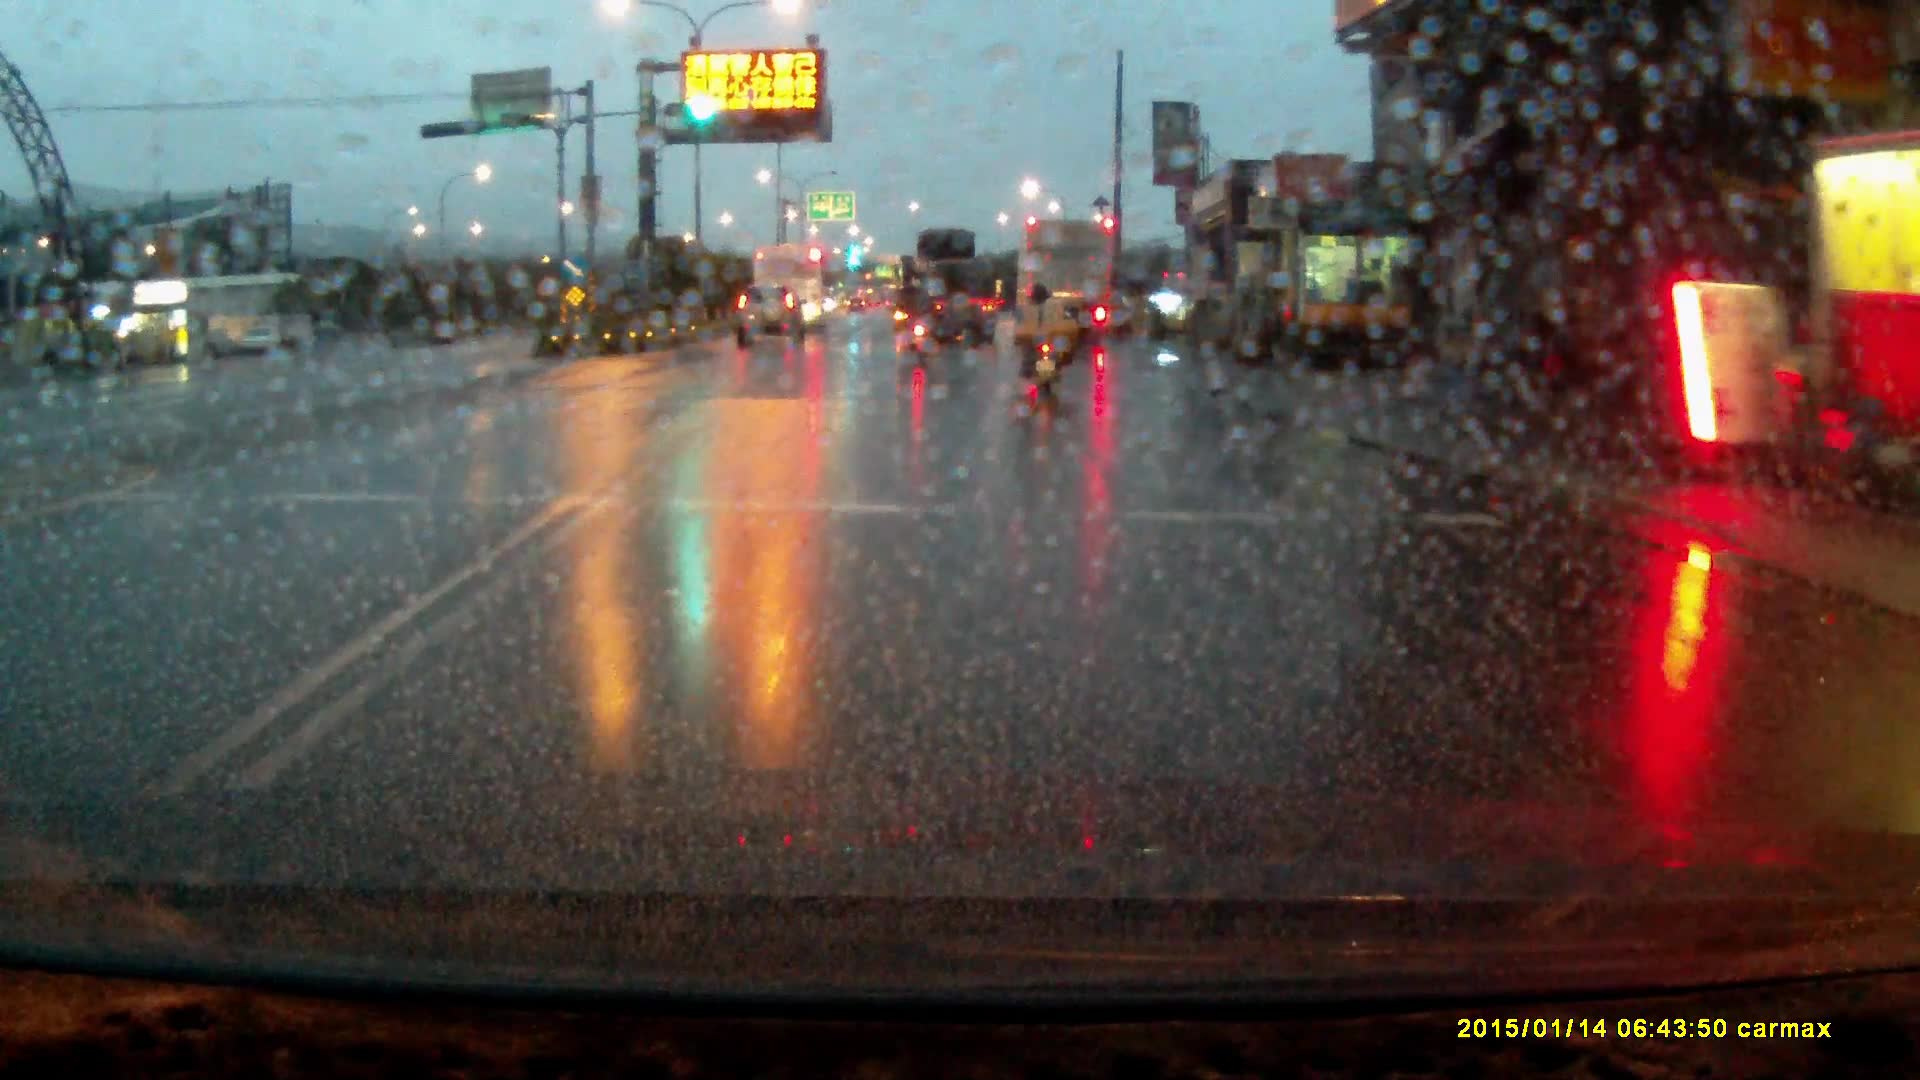rider: (1018, 287, 1075, 409), (901, 280, 939, 368)
vehicle: (1016, 219, 1117, 349), (903, 232, 998, 347), (755, 246, 829, 331), (734, 291, 809, 357)
